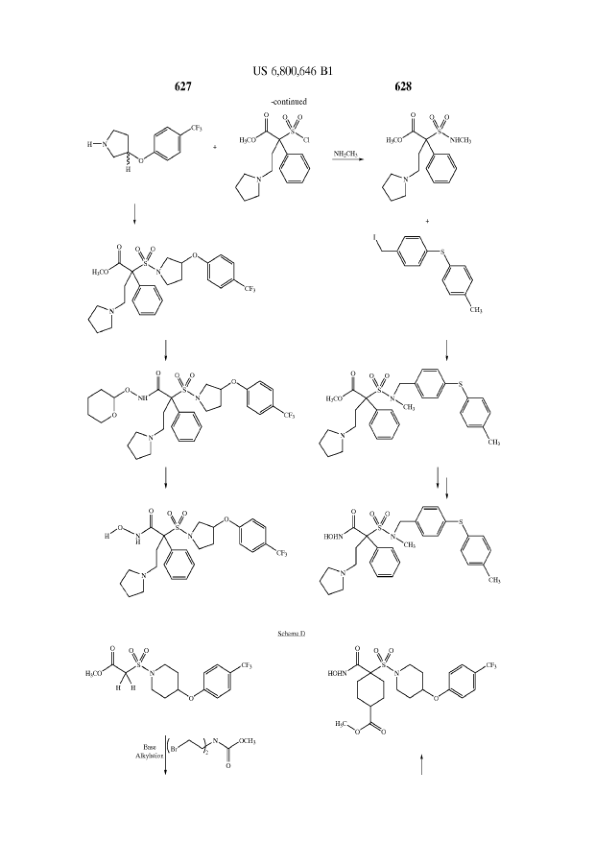compound-structure: (80, 365, 297, 462), (86, 500, 289, 600), (316, 501, 503, 609), (317, 359, 503, 461), (328, 637, 500, 743), (86, 241, 257, 338), (82, 638, 258, 710), (365, 224, 496, 316), (380, 105, 471, 209), (233, 106, 318, 207), (81, 115, 203, 178), (167, 735, 262, 772)
reaction: (72, 104, 579, 615), (65, 632, 523, 791)
reaction-arrow: (135, 736, 273, 779), (324, 146, 367, 169), (430, 466, 455, 499), (124, 201, 144, 231), (157, 465, 176, 490), (418, 751, 432, 779), (439, 331, 450, 365), (158, 342, 174, 363)
